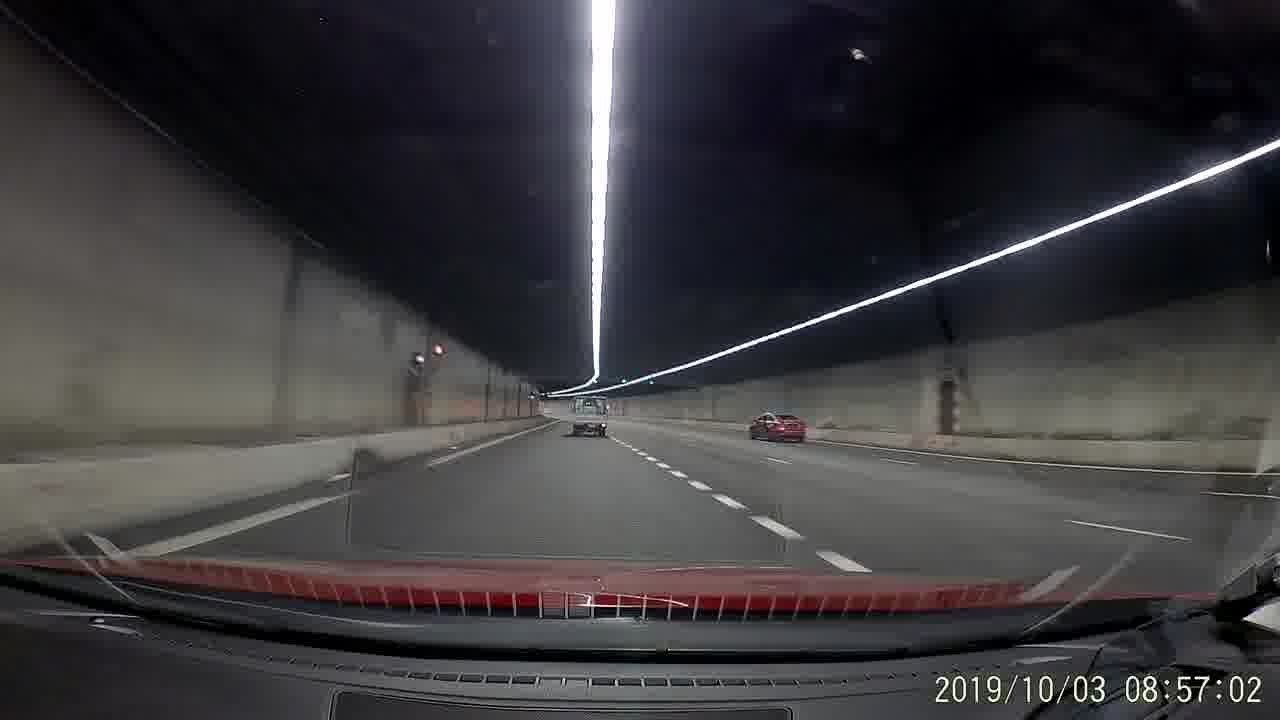car: (745, 413, 807, 443)
